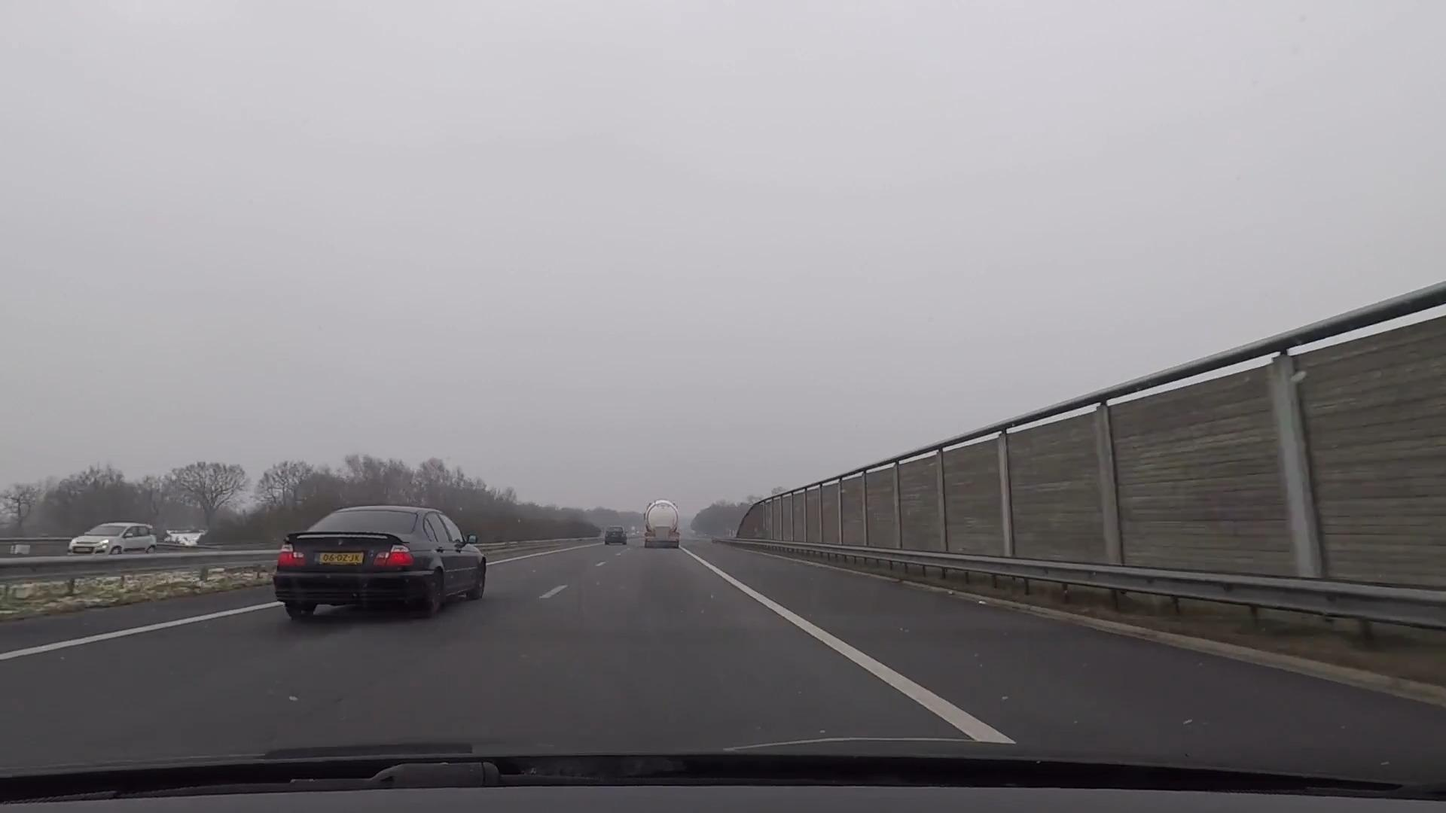dry: (0, 534, 1446, 769)
